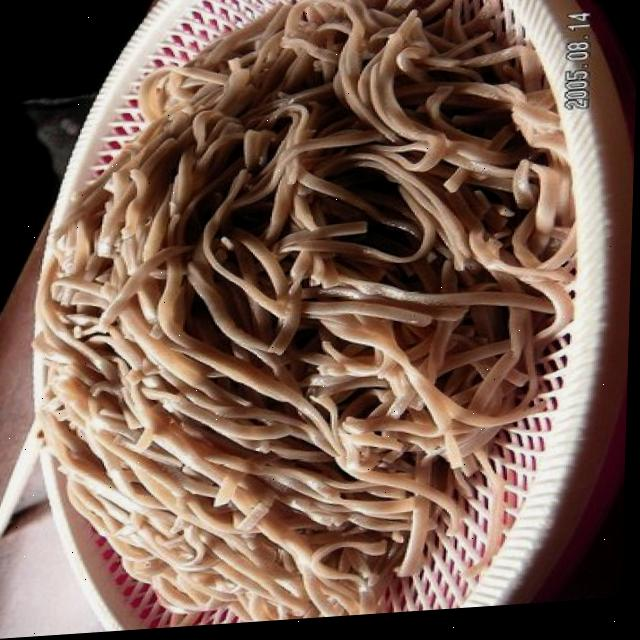面条主食: (22, 0, 640, 638)
